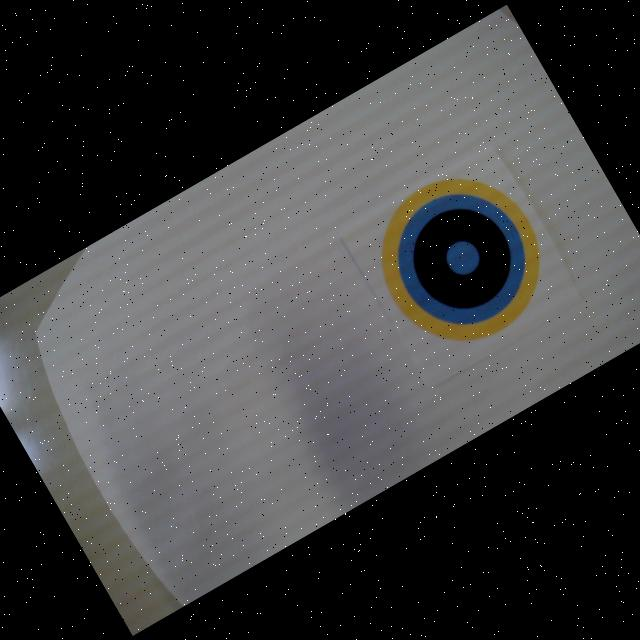COGNITIVE: (352, 148, 572, 370)
